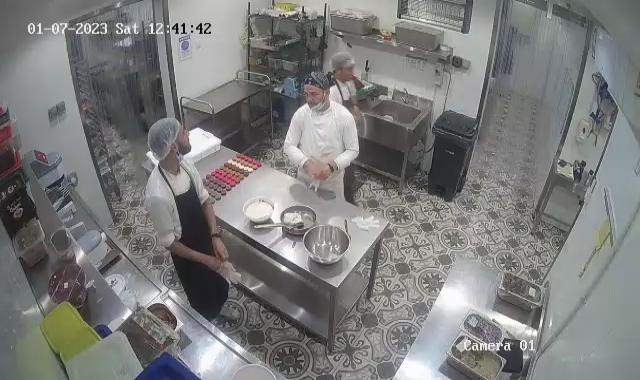hairnet: (146, 116, 182, 159), (333, 52, 355, 73)
no_hairnet: (304, 69, 331, 98)
